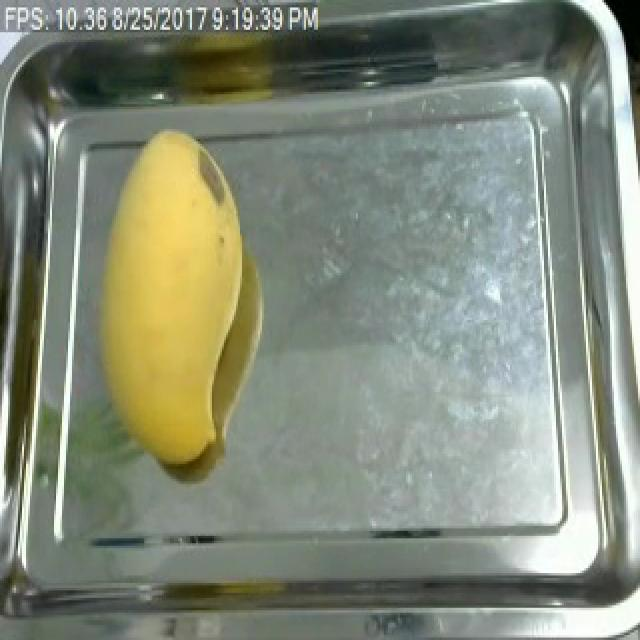fruit: (72, 124, 264, 481)
